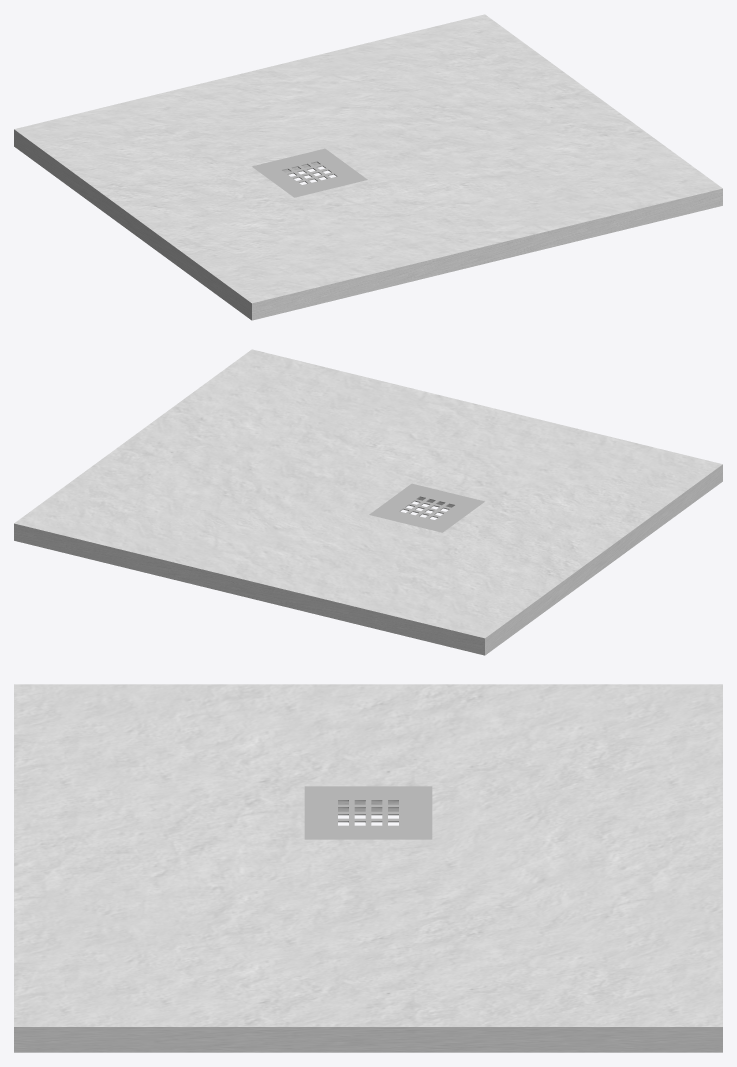
File: Rioja.glb
The picture shows the model from 3 angles, top to bottom: view 1: azimuth 30°, elevation 25°; view 2: azimuth 150°, elevation 25°; view 3: azimuth 270°, elevation 25°; orthographic projection. The views are drawn at different scales.
Parts seen in each view (by area): view 1: rioja; view 2: rioja; view 3: rioja.
Part boxes in pixels (bbox=[...]): rioja: bbox=[14, 14, 722, 320]; rioja: bbox=[14, 349, 722, 655]; rioja: bbox=[14, 684, 722, 1052].
Bounding box in the file's own units: 0.8 × 0.028 × 0.7.
Materials: 2 (1 with a texture image).
